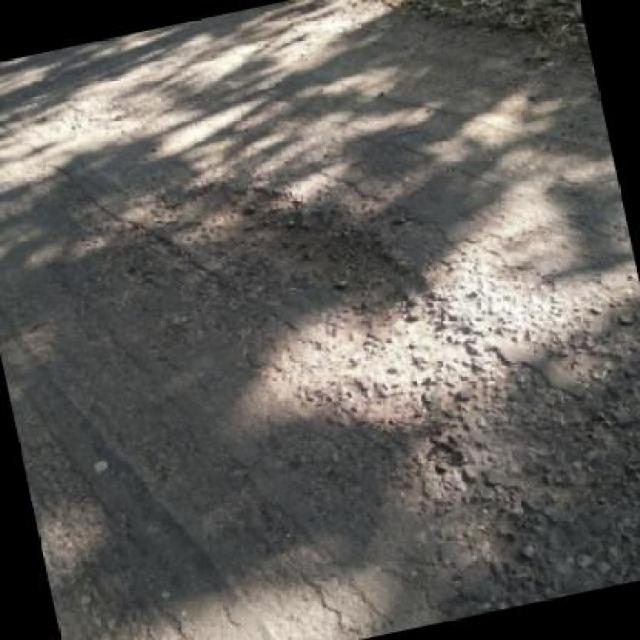pothole1: (157, 143, 440, 357)
